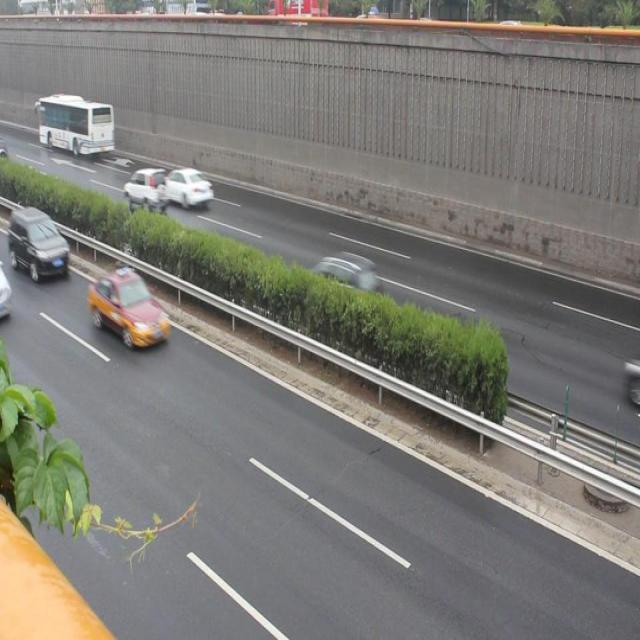car: (91, 266, 173, 355), (304, 247, 383, 310), (9, 208, 72, 278), (161, 163, 216, 217), (124, 165, 172, 211)
van: (33, 95, 118, 154)
